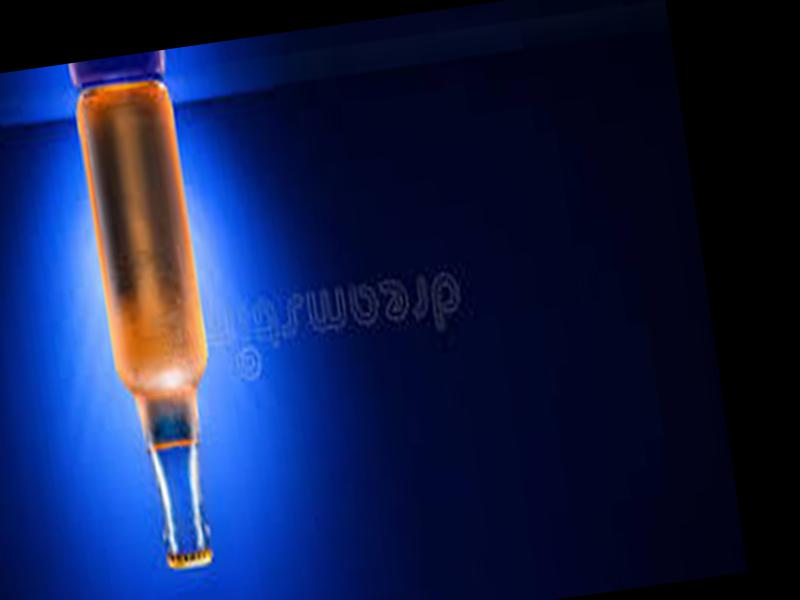Beer: (69, 77, 240, 575)
